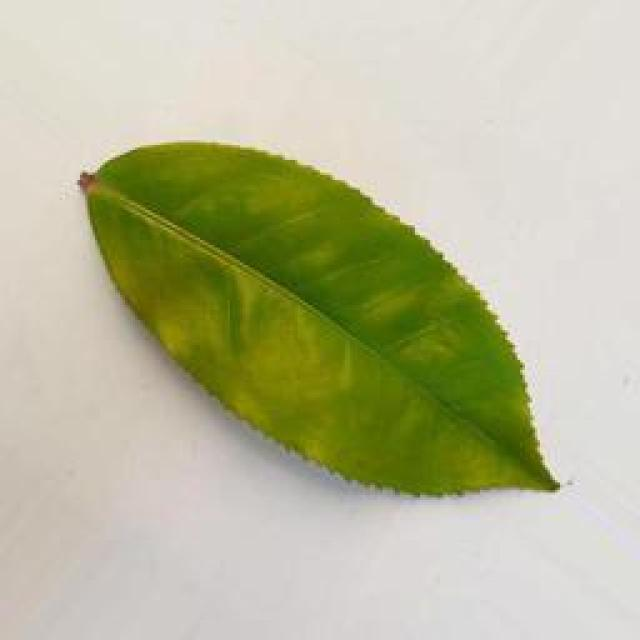Healthy: (56, 132, 570, 506)
